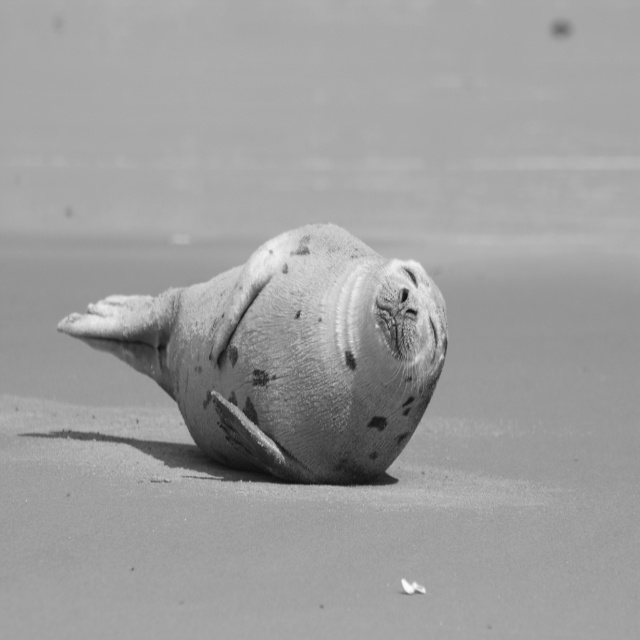Harbor seal: (56, 220, 449, 484)
